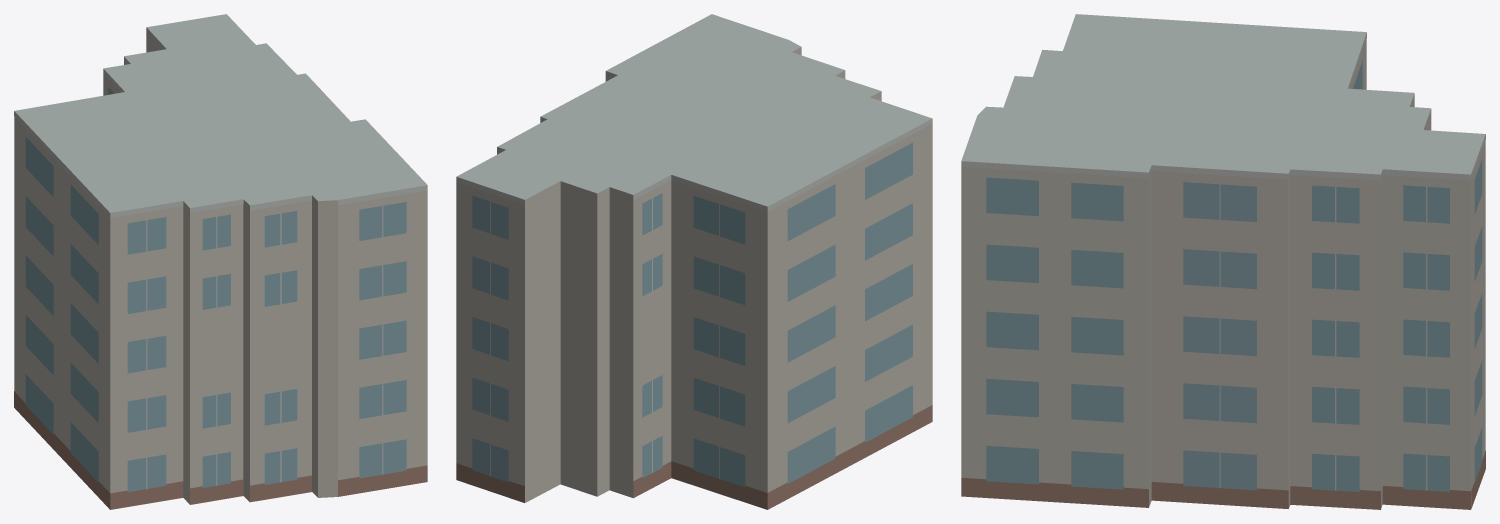
File: survey-upis-32604577.glb
The picture shows the model from 3 angles, left to right: view 1: azimuth 30°, elevation 25°; view 2: azimuth 150°, elevation 25°; view 3: azimuth 270°, elevation 25°; orthographic projection. The views are drawn at different scales.
Visible parts, largest first — view 1: survey-upis-32604577.tmp; view 2: survey-upis-32604577.tmp; view 3: survey-upis-32604577.tmp.
Part boxes in pixels (left/top/right/bottom): survey-upis-32604577.tmp: left=14, top=14, right=427, bottom=509; survey-upis-32604577.tmp: left=456, top=14, right=932, bottom=509; survey-upis-32604577.tmp: left=961, top=14, right=1485, bottom=509.
Size of the model in its own units: 14.59 by 14.2 by 20.14.
